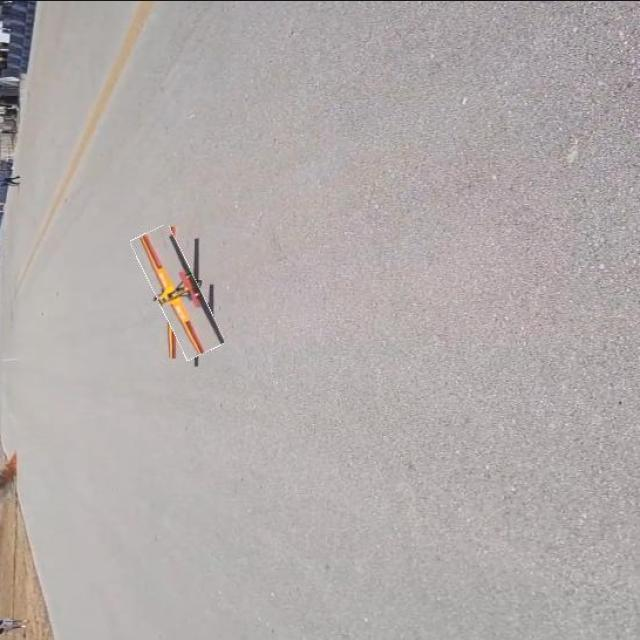plane: (127, 222, 225, 364)
